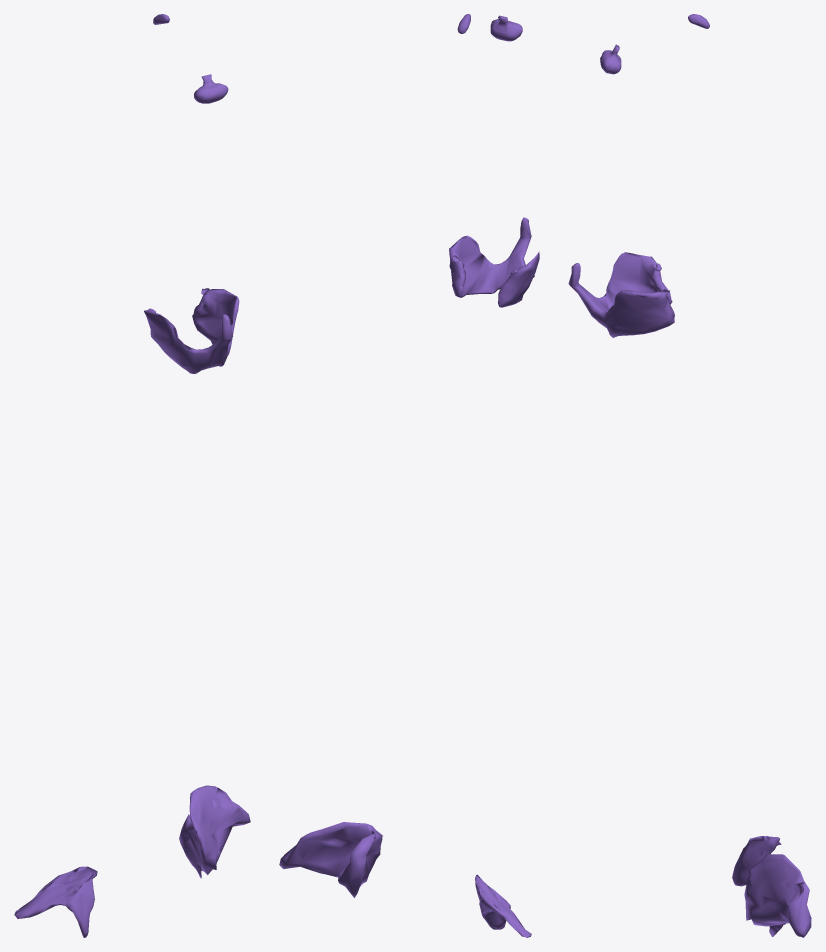
Rendered from endocrine.glb.
3 renders of one model, left to right at view 1: azimuth 30°, elevation 25°; view 2: azimuth 150°, elevation 25°; view 3: azimuth 270°, elevation 25°, orthographic. The views are drawn at different scales.
Parts seen in each view (by area): view 1: W_ZAE5933B68, W_FJ3129, W_FJ3130, W_FJ1796; view 2: W_FJ3129, W_ZAE5933B68, W_FJ3130, W_FJ1796; view 3: W_ZAE5933B68, W_FJ3129, W_FJ3130.
Part boxes in pixels (x1,y1,x2,y2): W_ZAE5933B68: [144, 289, 239, 373]; W_FJ3129: [179, 785, 250, 878]; W_FJ3130: [14, 866, 97, 937]; W_FJ1796: [194, 74, 228, 103]; W_FJ3129: [279, 822, 382, 897]; W_ZAE5933B68: [449, 217, 539, 307]; W_FJ3130: [475, 874, 531, 937]; W_FJ1796: [490, 15, 522, 41]; W_ZAE5933B68: [568, 252, 674, 337]; W_FJ3129: [744, 854, 811, 937]; W_FJ3130: [732, 836, 781, 886].
Bounding box in the file's own units: 0.132 × 0.4723 × 0.1158.
